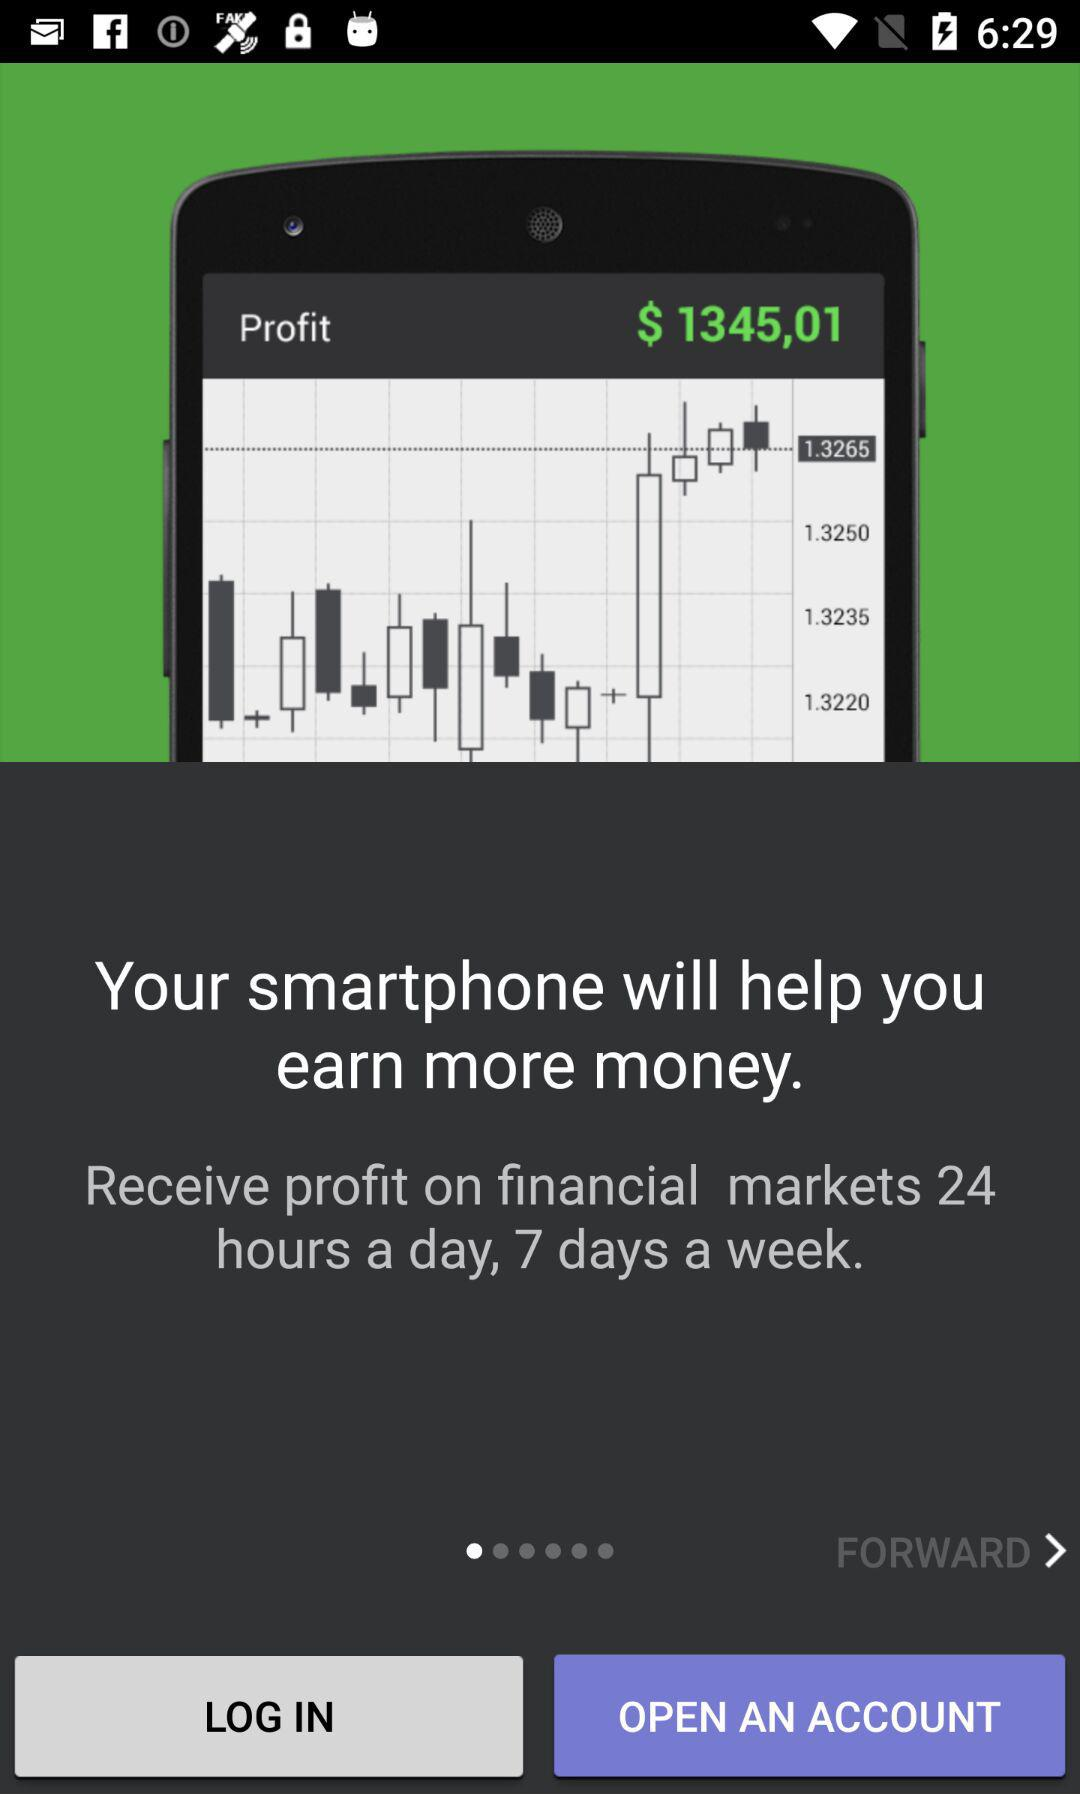Icon: (1044, 1533, 1068, 1568)
Image: (161, 149, 928, 762)
PageIndicator: (466, 1542, 616, 1561)
Text: (94, 959, 984, 1105), (88, 1164, 995, 1281), (837, 1535, 1031, 1568)
TextButton: (553, 1654, 1066, 1779), (15, 1656, 524, 1779)
UpperTaskBar: (1, 1, 1080, 64)
